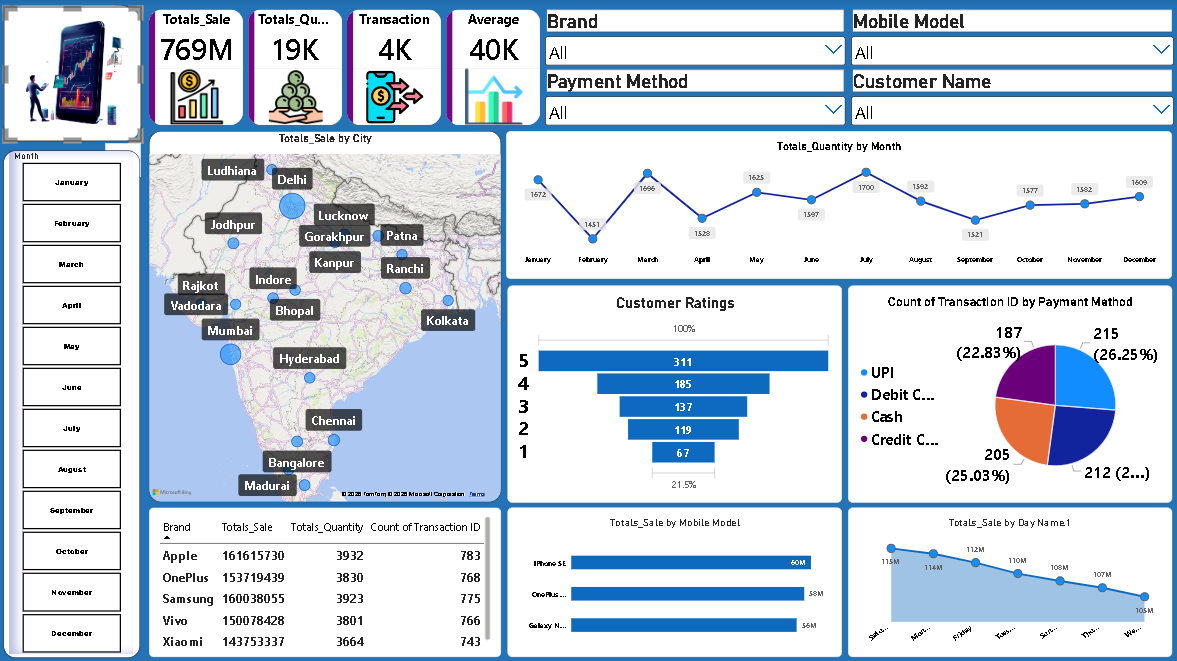

The dashboard page shown, as its layout file describes it:
{"tool":"powerbi","page":{"name":"Mobile_Sales_Dashboard","canvas":[1920,1080],"ordinal":1},"visuals":[{"type":"shape","box":[11.9,9.5,210,221.9],"z":0},{"type":"image","box":[11.9,11.9,224.3,219.5],"z":1000},{"type":"shape","box":[11.9,245.7,221.9,825.5],"z":2000},{"type":"slicer","fields":{"Values":["Dashboard_Project.Date.Variation.Date Hierarchy.Month"]},"box":[21.5,245.7,200.4,818.4],"z":3000},{"type":"cardVisual","fields":{"Data":["Dashboard_Project.Totals_Sale","Dashboard_Project.Totals_Quantity","Dashboard_Project.Transaction","Dashboard_Project.Average"]},"box":[248.1,16.7,639.4,188.5],"z":4000},{"type":"map","fields":{"Category":["Dashboard_Project.City"],"Size":["Dashboard_Project.Totals_Sale"]},"box":[248.1,214.7,572.6,603.6],"z":5000},{"type":"lineChart","fields":{"Category":["Dashboard_Project.Date.Variation.Date Hierarchy.Month","Dashboard_Project.Date.Variation.Date Hierarchy.Day"],"Y":["Dashboard_Project.Totals_Quantity"]},"box":[830.3,214.7,1083.2,241],"z":6000},{"type":"barChart","fields":{"Category":["Dashboard_Project.Mobile Model"],"Y":["Dashboard_Project.Totals_Sale"]},"box":[832.7,827.9,544,243.4],"z":7000},{"type":"pieChart","fields":{"Category":["Dashboard_Project.Payment Method"],"Y":["CountNonNull(Dashboard_Project.Transaction ID)"]},"box":[1386.2,465.3,527.3,353.1],"z":8000},{"type":"funnel","title":"Customer Ratings","fields":{"Category":["Dashboard_Project.Customer Ratings"],"Y":["CountNonNull(Dashboard_Project.Customer Ratings)"]},"box":[832.7,465.3,544,353.1],"z":9000},{"type":"areaChart","fields":{"Category":["Dashboard_Project.Day Name.1"],"Y":["Dashboard_Project.Totals_Sale"]},"box":[1386.2,827.9,527.3,243.4],"z":10000},{"type":"tableEx","fields":{"Values":["Dashboard_Project.Brand","Dashboard_Project.Totals_Sale","Dashboard_Project.Totals_Quantity","CountNonNull(Dashboard_Project.Transaction ID)"]},"box":[248.1,827.9,572.6,243.4],"z":11000},{"type":"slicer","fields":{"Values":["Dashboard_Project.Brand"]},"box":[887.6,16.7,498.7,90.7],"z":12000},{"type":"slicer","fields":{"Values":["Dashboard_Project.Mobile Model"]},"box":[1386.2,16.7,534.4,90.7],"z":13000},{"type":"slicer","fields":{"Values":["Dashboard_Project.Payment Method"]},"box":[887.6,114.5,498.7,90.7],"z":14000},{"type":"slicer","fields":{"Values":["Dashboard_Project.Customer Name"]},"box":[1386.2,114.5,534.4,90.7],"z":15000}]}

Visuals, with their boxes in screenshot pixels (x1, y1, x2, y2), scaled from the page's 1920x1080 canvas onto the 1177x661 screenshot:
shape: [x1=7, y1=6, x2=136, y2=142]
image: [x1=7, y1=7, x2=145, y2=142]
shape: [x1=7, y1=150, x2=143, y2=656]
slicer - Dashboard_Project.Date.Variation.Date Hierarchy.Month: [x1=13, y1=150, x2=136, y2=651]
cardVisual - Dashboard_Project.Totals_Sale x Dashboard_Project.Totals_Quantity: [x1=152, y1=10, x2=544, y2=126]
map - Dashboard_Project.City x Dashboard_Project.Totals_Sale: [x1=152, y1=131, x2=503, y2=501]
lineChart - Dashboard_Project.Date.Variation.Date Hierarchy.Month x Dashboard_Project.Date.Variation.Date Hierarchy.Day: [x1=509, y1=131, x2=1173, y2=279]
barChart - Dashboard_Project.Mobile Model x Dashboard_Project.Totals_Sale: [x1=510, y1=507, x2=844, y2=656]
pieChart - Dashboard_Project.Payment Method x CountNonNull(Dashboard_Project.Transaction ID): [x1=850, y1=285, x2=1173, y2=501]
"Customer Ratings" funnel: [x1=510, y1=285, x2=844, y2=501]
areaChart - Dashboard_Project.Day Name.1 x Dashboard_Project.Totals_Sale: [x1=850, y1=507, x2=1173, y2=656]
tableEx - Dashboard_Project.Brand x Dashboard_Project.Totals_Sale: [x1=152, y1=507, x2=503, y2=656]
slicer - Dashboard_Project.Brand: [x1=544, y1=10, x2=850, y2=66]
slicer - Dashboard_Project.Mobile Model: [x1=850, y1=10, x2=1176, y2=66]
slicer - Dashboard_Project.Payment Method: [x1=544, y1=70, x2=850, y2=126]
slicer - Dashboard_Project.Customer Name: [x1=850, y1=70, x2=1176, y2=126]
